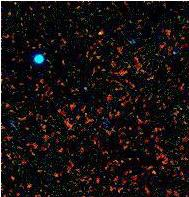star: (86, 19, 116, 49)
